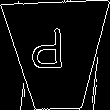P_S: (38, 30, 75, 82)
